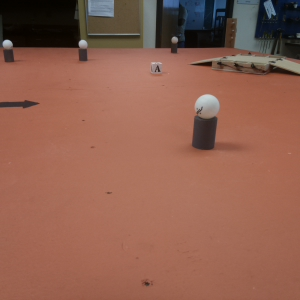blockA: (147, 60, 165, 74)
corner: (223, 16, 238, 49)
obstacle: (191, 94, 221, 152), (2, 38, 15, 66), (75, 39, 91, 60), (171, 36, 179, 54)
side: (214, 61, 265, 75)
slope: (269, 57, 300, 76), (190, 59, 211, 68)
start: (1, 95, 39, 113)
